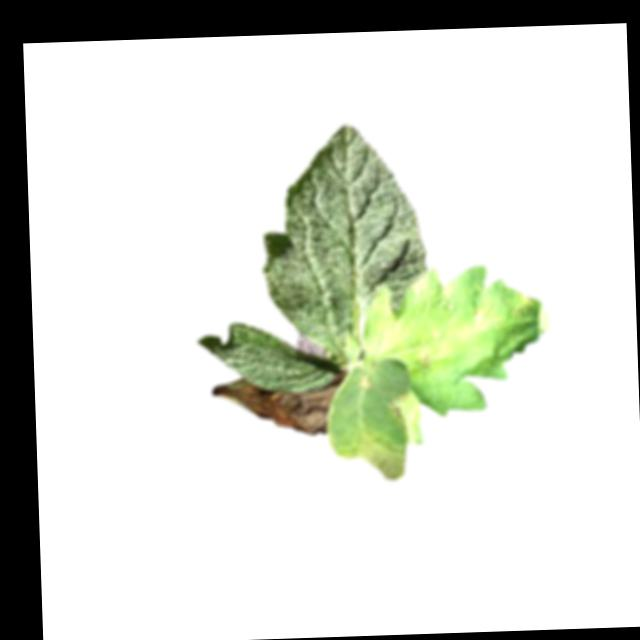Late_blight: (214, 376, 343, 439), (332, 435, 406, 483), (509, 288, 540, 318), (412, 342, 443, 371), (386, 393, 412, 422), (468, 299, 490, 328), (360, 367, 377, 393)
healthy: (258, 121, 432, 363), (195, 319, 348, 395)
